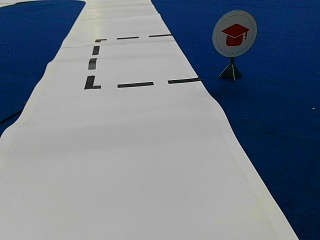school: (212, 10, 257, 57)
